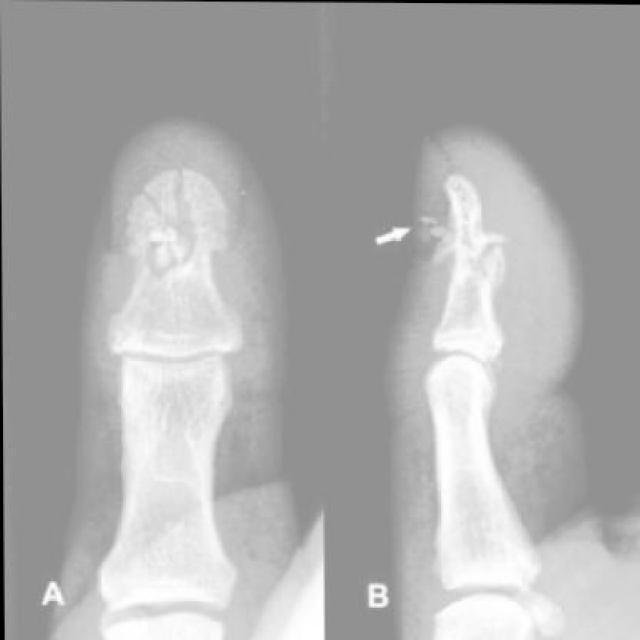Fracture: (123, 160, 241, 292), (417, 178, 527, 292)
